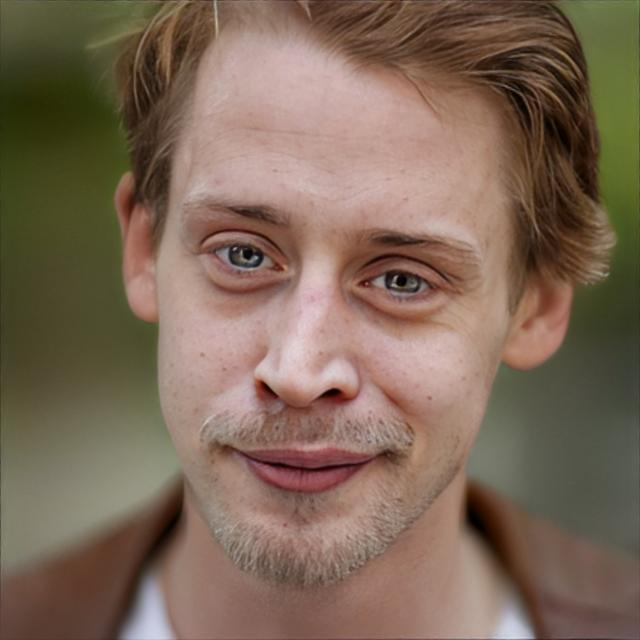content: (158, 48, 510, 584)
